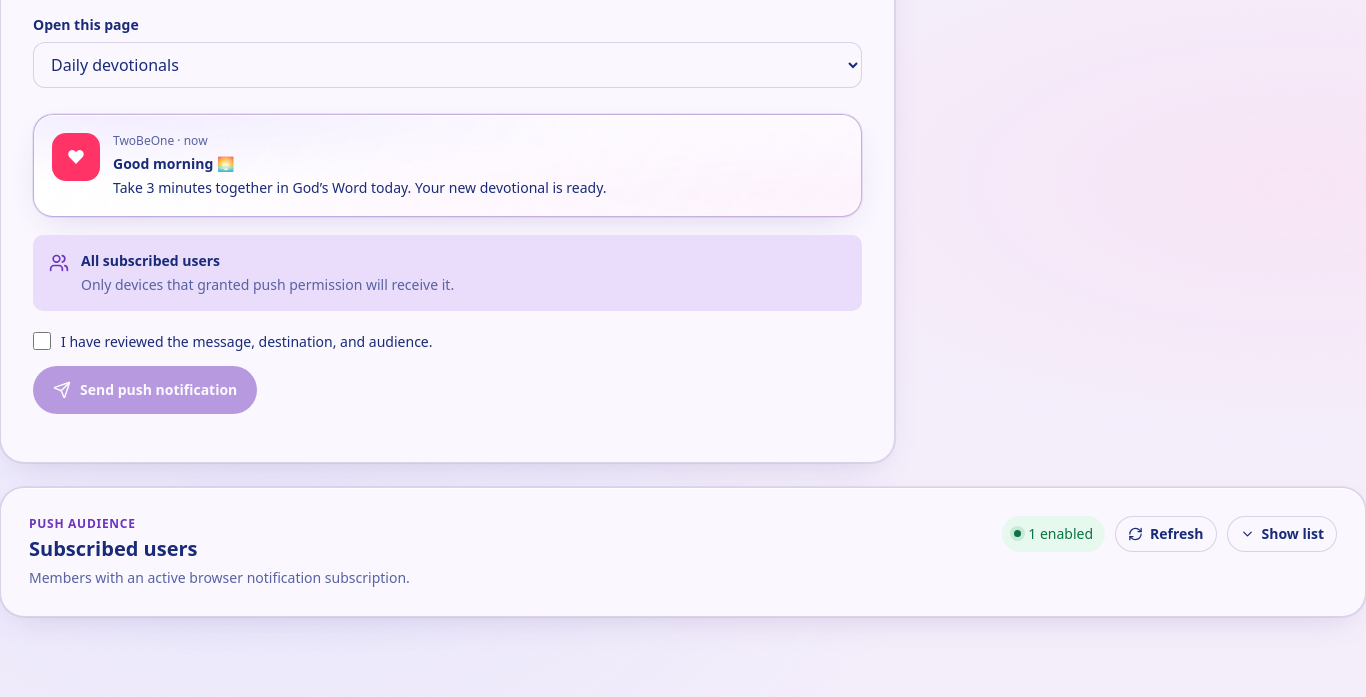
Test: PushNotificationsManager › sends the admin broadcast and reports its delivery result
The image size is (1366, 697).
(page scrolled)
Click the checkbox labelled "I have reviewed the message, destination, and audience." at (42, 342), box [33,332,51,350]
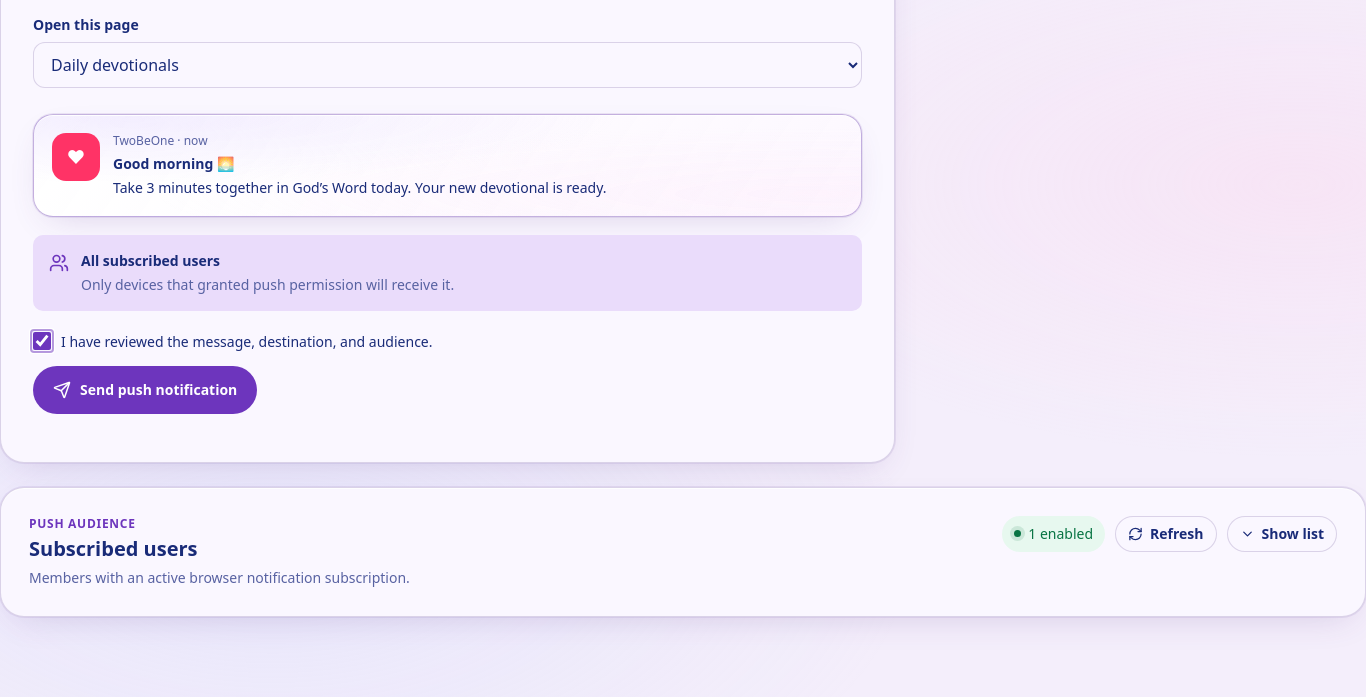
Click the button "Send push notification" at (145, 390), box [33,366,257,414]
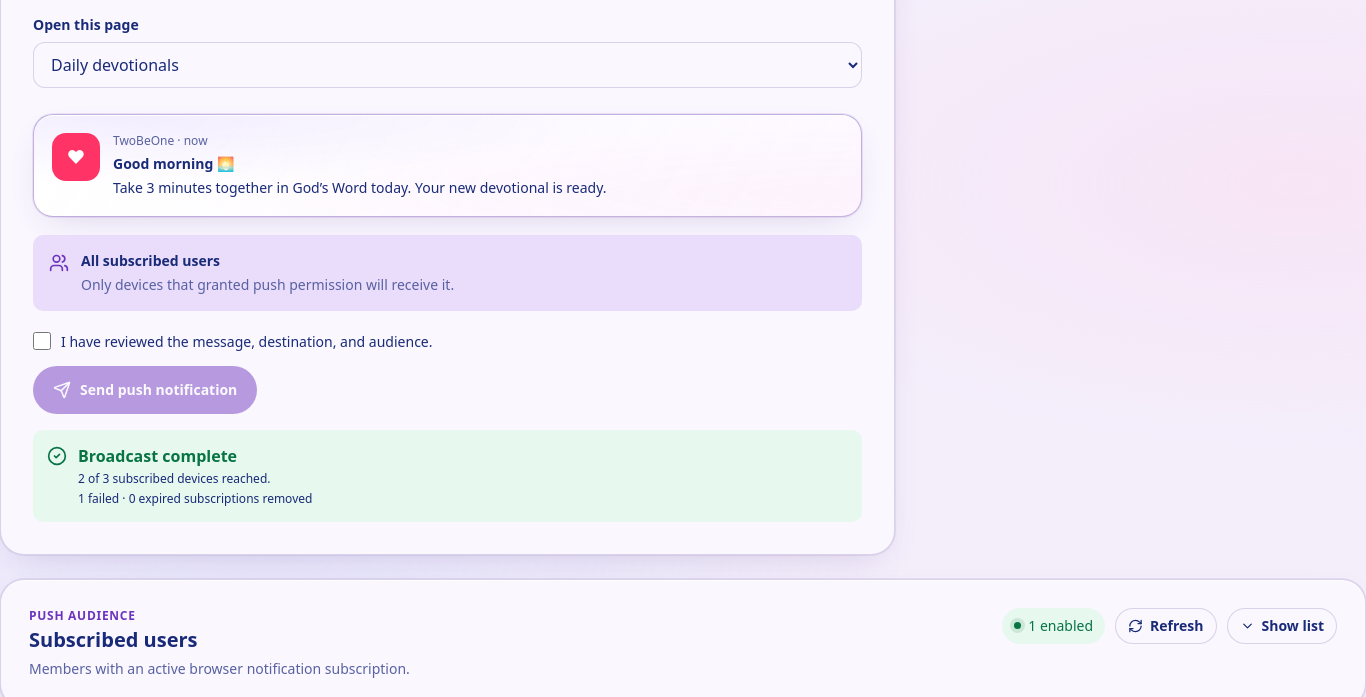
Expected: the text "Broadcast complete" is shown, [78,445,237,467]
Expected: the text "2 of 3 subscribed devices reached." is shown, [78,470,270,487]
